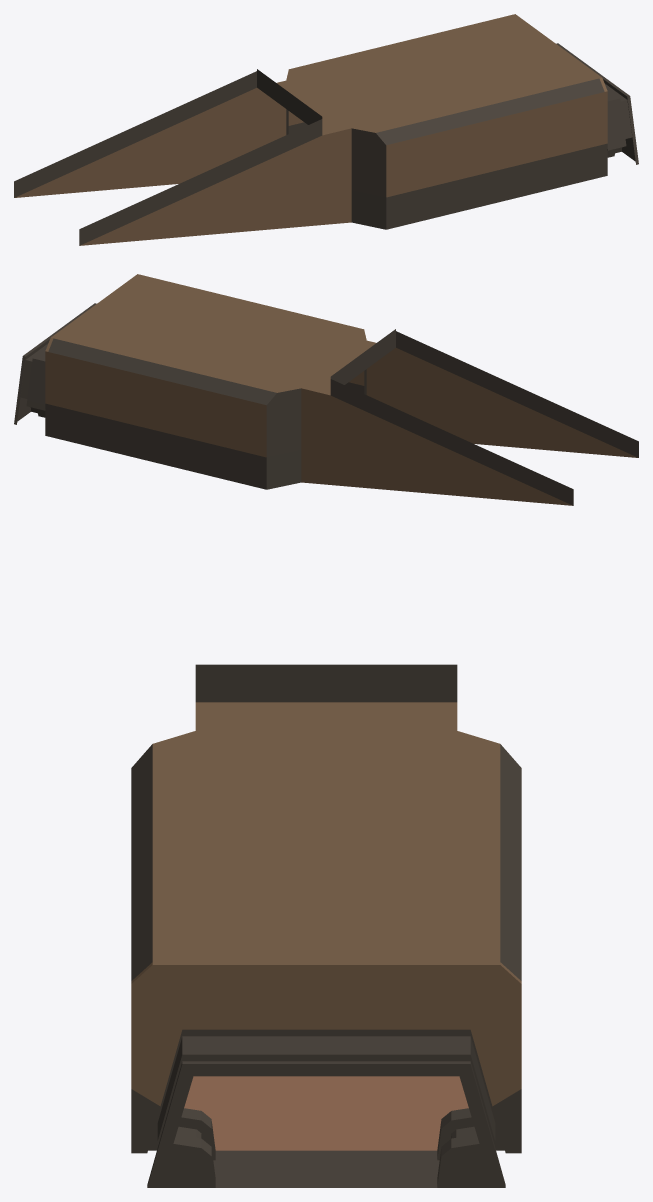
The model's file is 06_CuartoAbajo.fbx.
3 views of the same model, one above another, from view 1: azimuth 30°, elevation 25°; view 2: azimuth 150°, elevation 25°; view 3: azimuth 270°, elevation 25° (orthographic). The views are drawn at different scales.
Parts seen in each view (by area): view 1: 06_CuartoAbajo; view 2: 06_CuartoAbajo; view 3: 06_CuartoAbajo.
Part boxes in pixels (box(x1,y1,x2,y2)): 06_CuartoAbajo: box(14, 14, 638, 245); 06_CuartoAbajo: box(14, 274, 638, 505); 06_CuartoAbajo: box(131, 664, 521, 1187).
Bounding box in the file's own units: 4638 × 914 × 1433.
